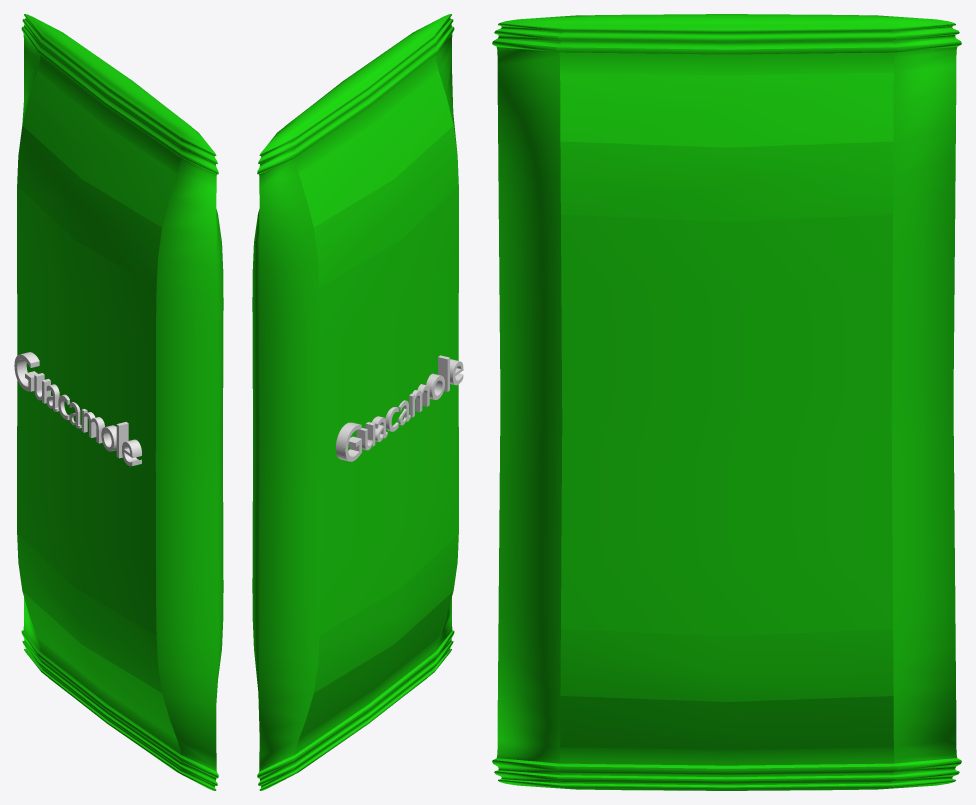
File: guacamole.fbx
3 renders of one model, left to right at view 1: azimuth 30°, elevation 25°; view 2: azimuth 150°, elevation 25°; view 3: azimuth 270°, elevation 25°, orthographic. The views are drawn at different scales.
Parts seen in each view (by area): view 1: Cube.001; view 2: Cube.001; view 3: Cube.001.
Boxes of the visible parts, <box> form: Cube.001: <box>14,14,223,790</box>; Cube.001: <box>252,14,463,790</box>; Cube.001: <box>492,14,961,790</box>.
Bounding box in the file's own units: 133 × 873 × 482.
